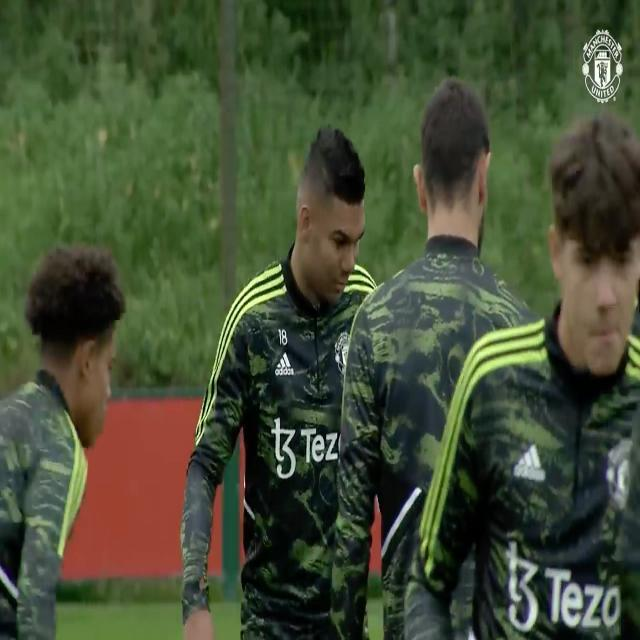Adidas: (512, 438, 546, 484), (275, 351, 296, 378)
